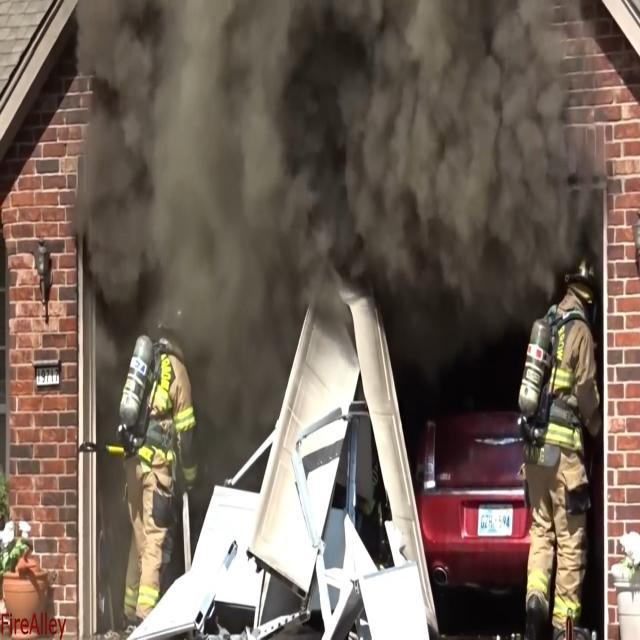Smoke: (94, 31, 564, 322)
